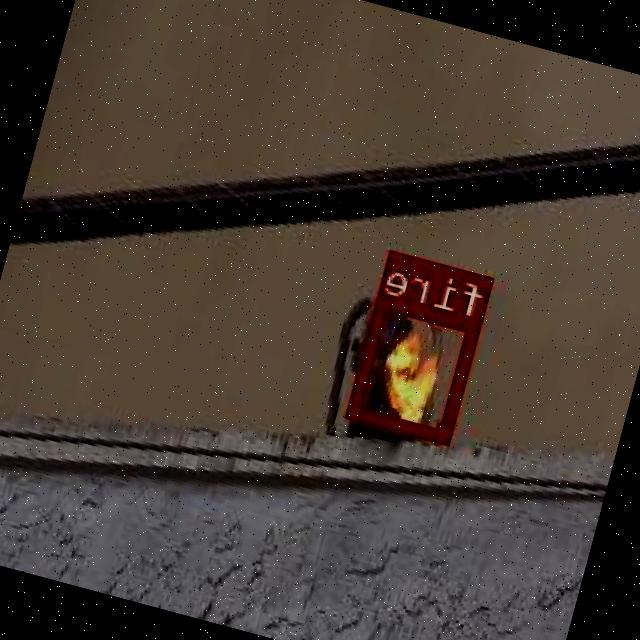fire: (347, 294, 483, 443)
